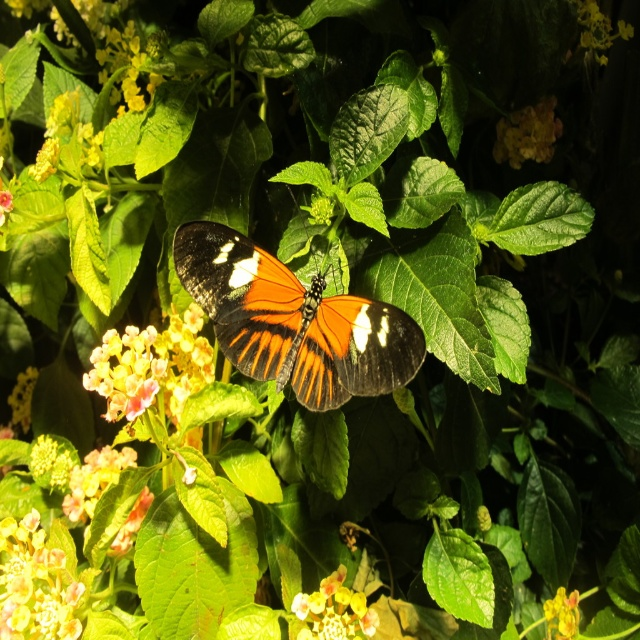Butterfly: (172, 179, 426, 411)
